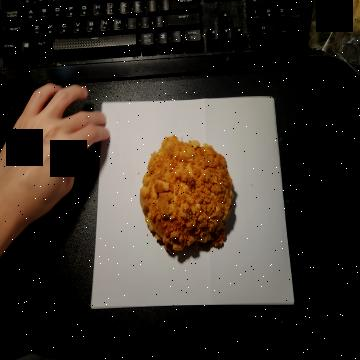soboru_bread: (141, 135, 232, 260)
